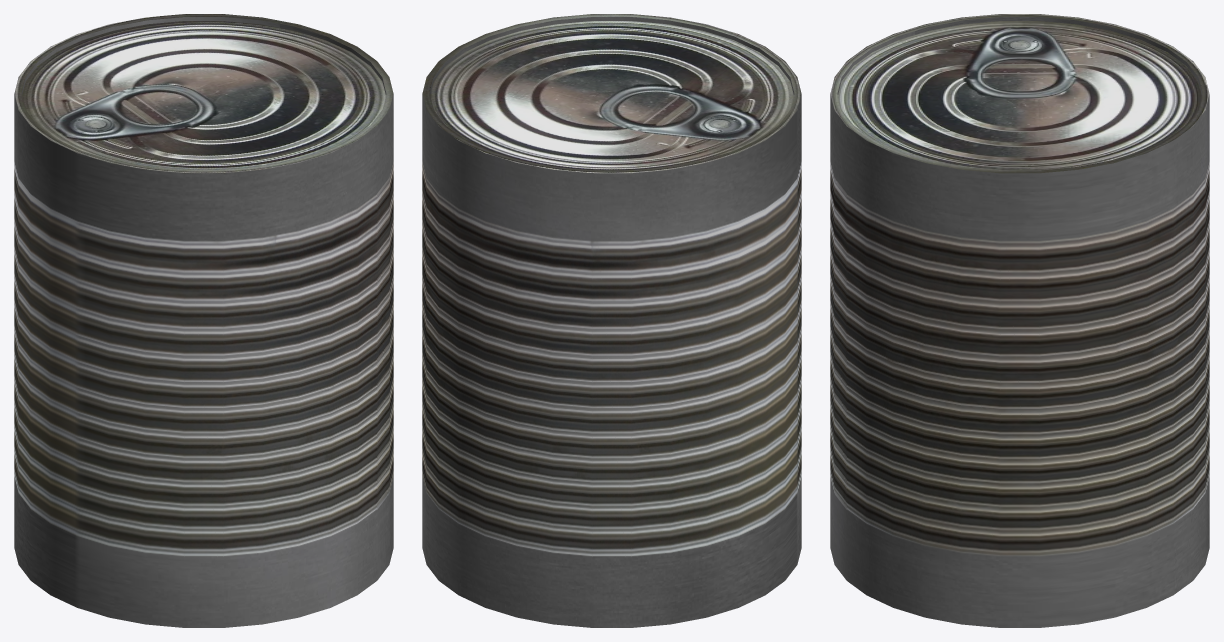
The model's file is tin.fbx.
3 views of the same model, side by side, from view 1: azimuth 30°, elevation 25°; view 2: azimuth 150°, elevation 25°; view 3: azimuth 270°, elevation 25° (orthographic).
Parts seen in each view (by area): view 1: Cylinder; view 2: Cylinder; view 3: Cylinder.
Boxes of the visible parts, left/top/right/bottom form: Cylinder: left=14, top=14, right=393, bottom=627; Cylinder: left=422, top=14, right=801, bottom=627; Cylinder: left=830, top=14, right=1209, bottom=627.
Size of the model in its own units: 199 by 265 by 200.
